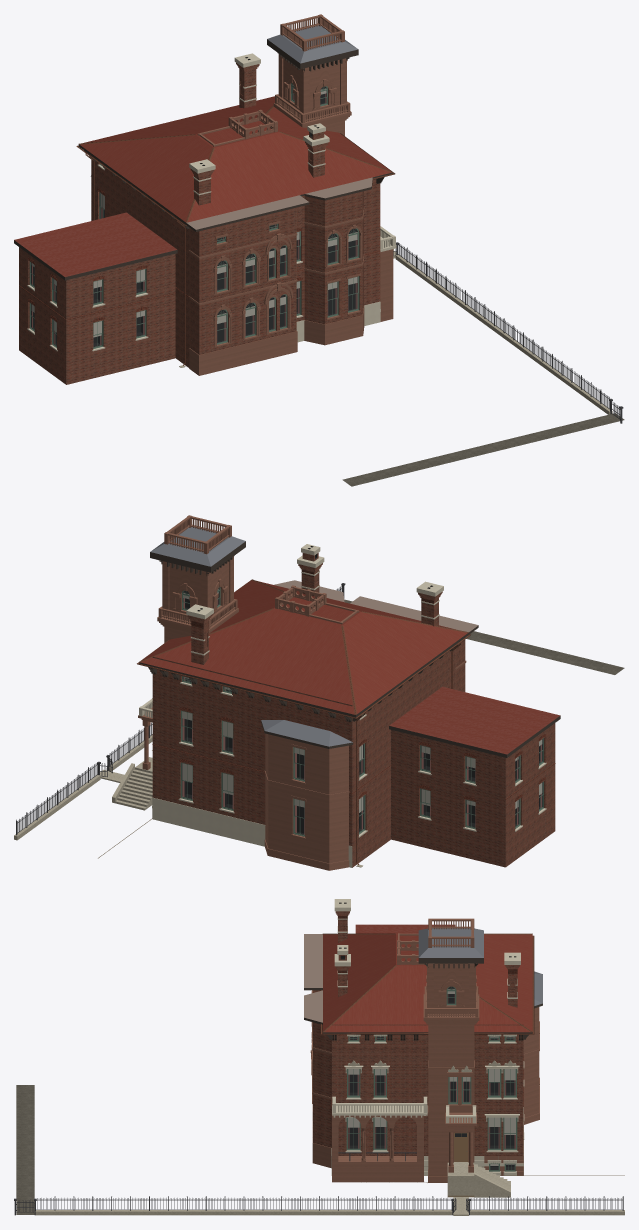
Rendered from house_1918_prairie__as_mapped_1904.glb.
3 views of the same model, one above another, from view 1: azimuth 30°, elevation 25°; view 2: azimuth 150°, elevation 25°; view 3: azimuth 270°, elevation 25° (orthographic). The views are drawn at different scales.
Parts seen in each view (by area): view 1: house_1918_prairie__as_mapped_1904; view 2: house_1918_prairie__as_mapped_1904; view 3: house_1918_prairie__as_mapped_1904.
Part boxes in pixels (left/top/right/bottom): house_1918_prairie__as_mapped_1904: left=14, top=14, right=624, bottom=486; house_1918_prairie__as_mapped_1904: left=14, top=515, right=624, bottom=870; house_1918_prairie__as_mapped_1904: left=14, top=899, right=624, bottom=1215.
Size of the model in its own units: 35.83 by 22.41 by 50.36.
31 materials, 19 textured.
